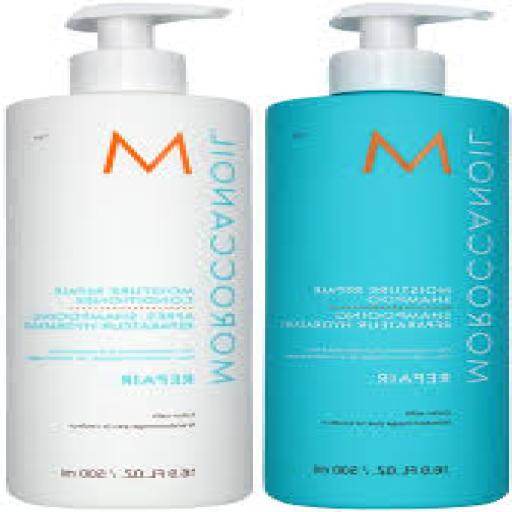blue-bottle: (268, 3, 509, 505)
